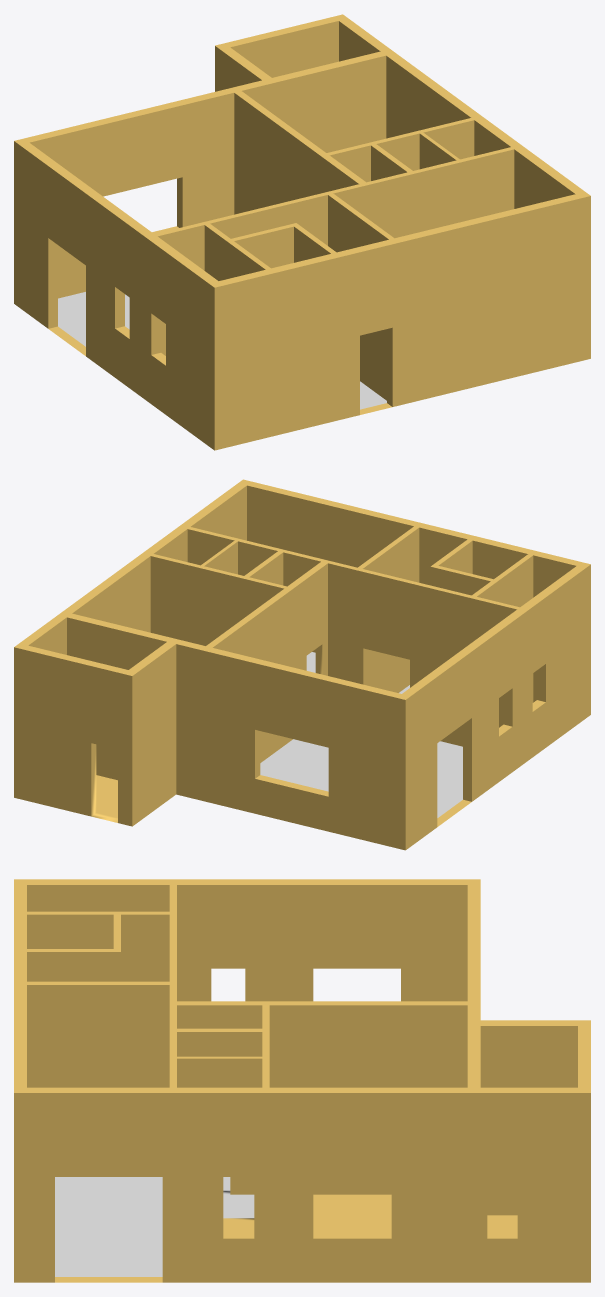
Rendered from villa senza altro.glb.
The picture shows the model from 3 angles, top to bottom: view 1: azimuth 30°, elevation 25°; view 2: azimuth 150°, elevation 25°; view 3: azimuth 270°, elevation 25°; orthographic projection. The views are drawn at different scales.
Parts seen in each view (by area): view 1: architettura-Mat.3, architettura-Mat.4; view 2: architettura-Mat.3, architettura-Mat.4; view 3: architettura-Mat.3 (×2), architettura-Mat.4.
Boxes of the visible parts, x1,y1,x2,y2 form: architettura-Mat.3: (14,14,590,450); architettura-Mat.4: (58,292,386,409); architettura-Mat.3: (14,479,590,850); architettura-Mat.4: (260,652,462,817); architettura-Mat.3 (×2): (14,879,590,1282); architettura-Mat.4: (55,1177,254,1276).
Size of the model in its own units: 1040 by 430 by 1187.
